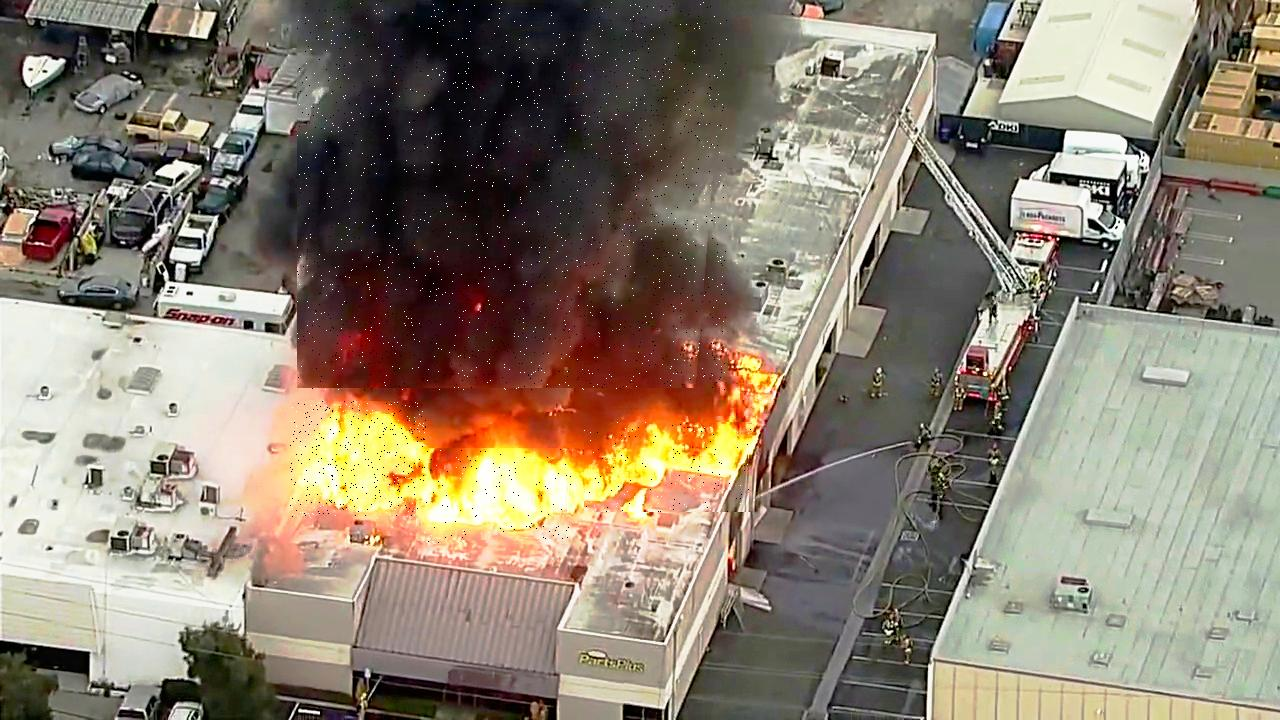fire: (290, 402, 427, 519), (585, 422, 752, 512), (417, 449, 572, 544)
smoke: (297, 2, 727, 391)
